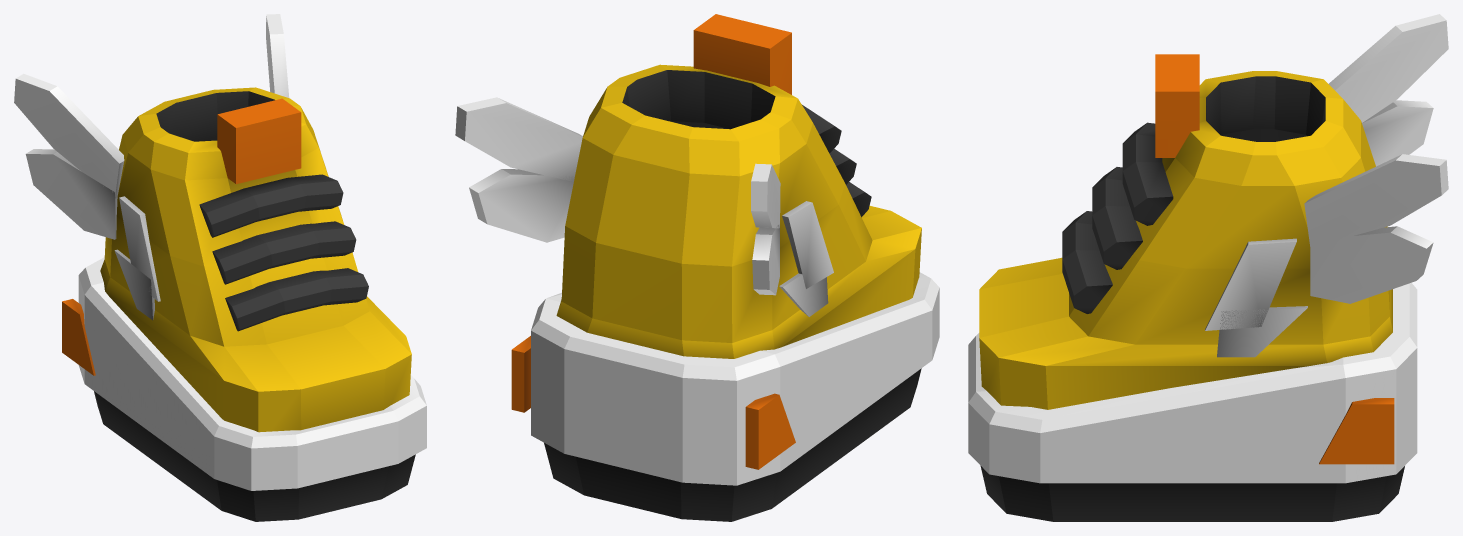
Rendered from power-speed.glb.
3 views of the same model, side by side, from view 1: azimuth 30°, elevation 25°; view 2: azimuth 150°, elevation 25°; view 3: azimuth 270°, elevation 25° (orthographic). The views are drawn at different scales.
Visible parts, largest first — view 1: zoom-boots; view 2: zoom-boots; view 3: zoom-boots.
Part boxes in pixels (left/top/right/bottom): zoom-boots: left=14, top=14, right=426, bottom=521; zoom-boots: left=455, top=14, right=939, bottom=521; zoom-boots: left=968, top=14, right=1448, bottom=521.
Bounding box in the file's own units: 0.327 × 0.396 × 0.4343.
Materials: 1 (1 with a texture image).
